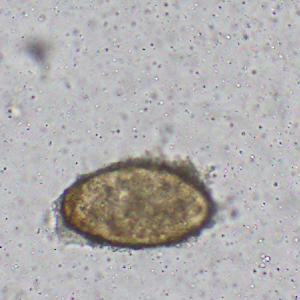Fasciola_hepatica_egg: (59, 156, 218, 249)
